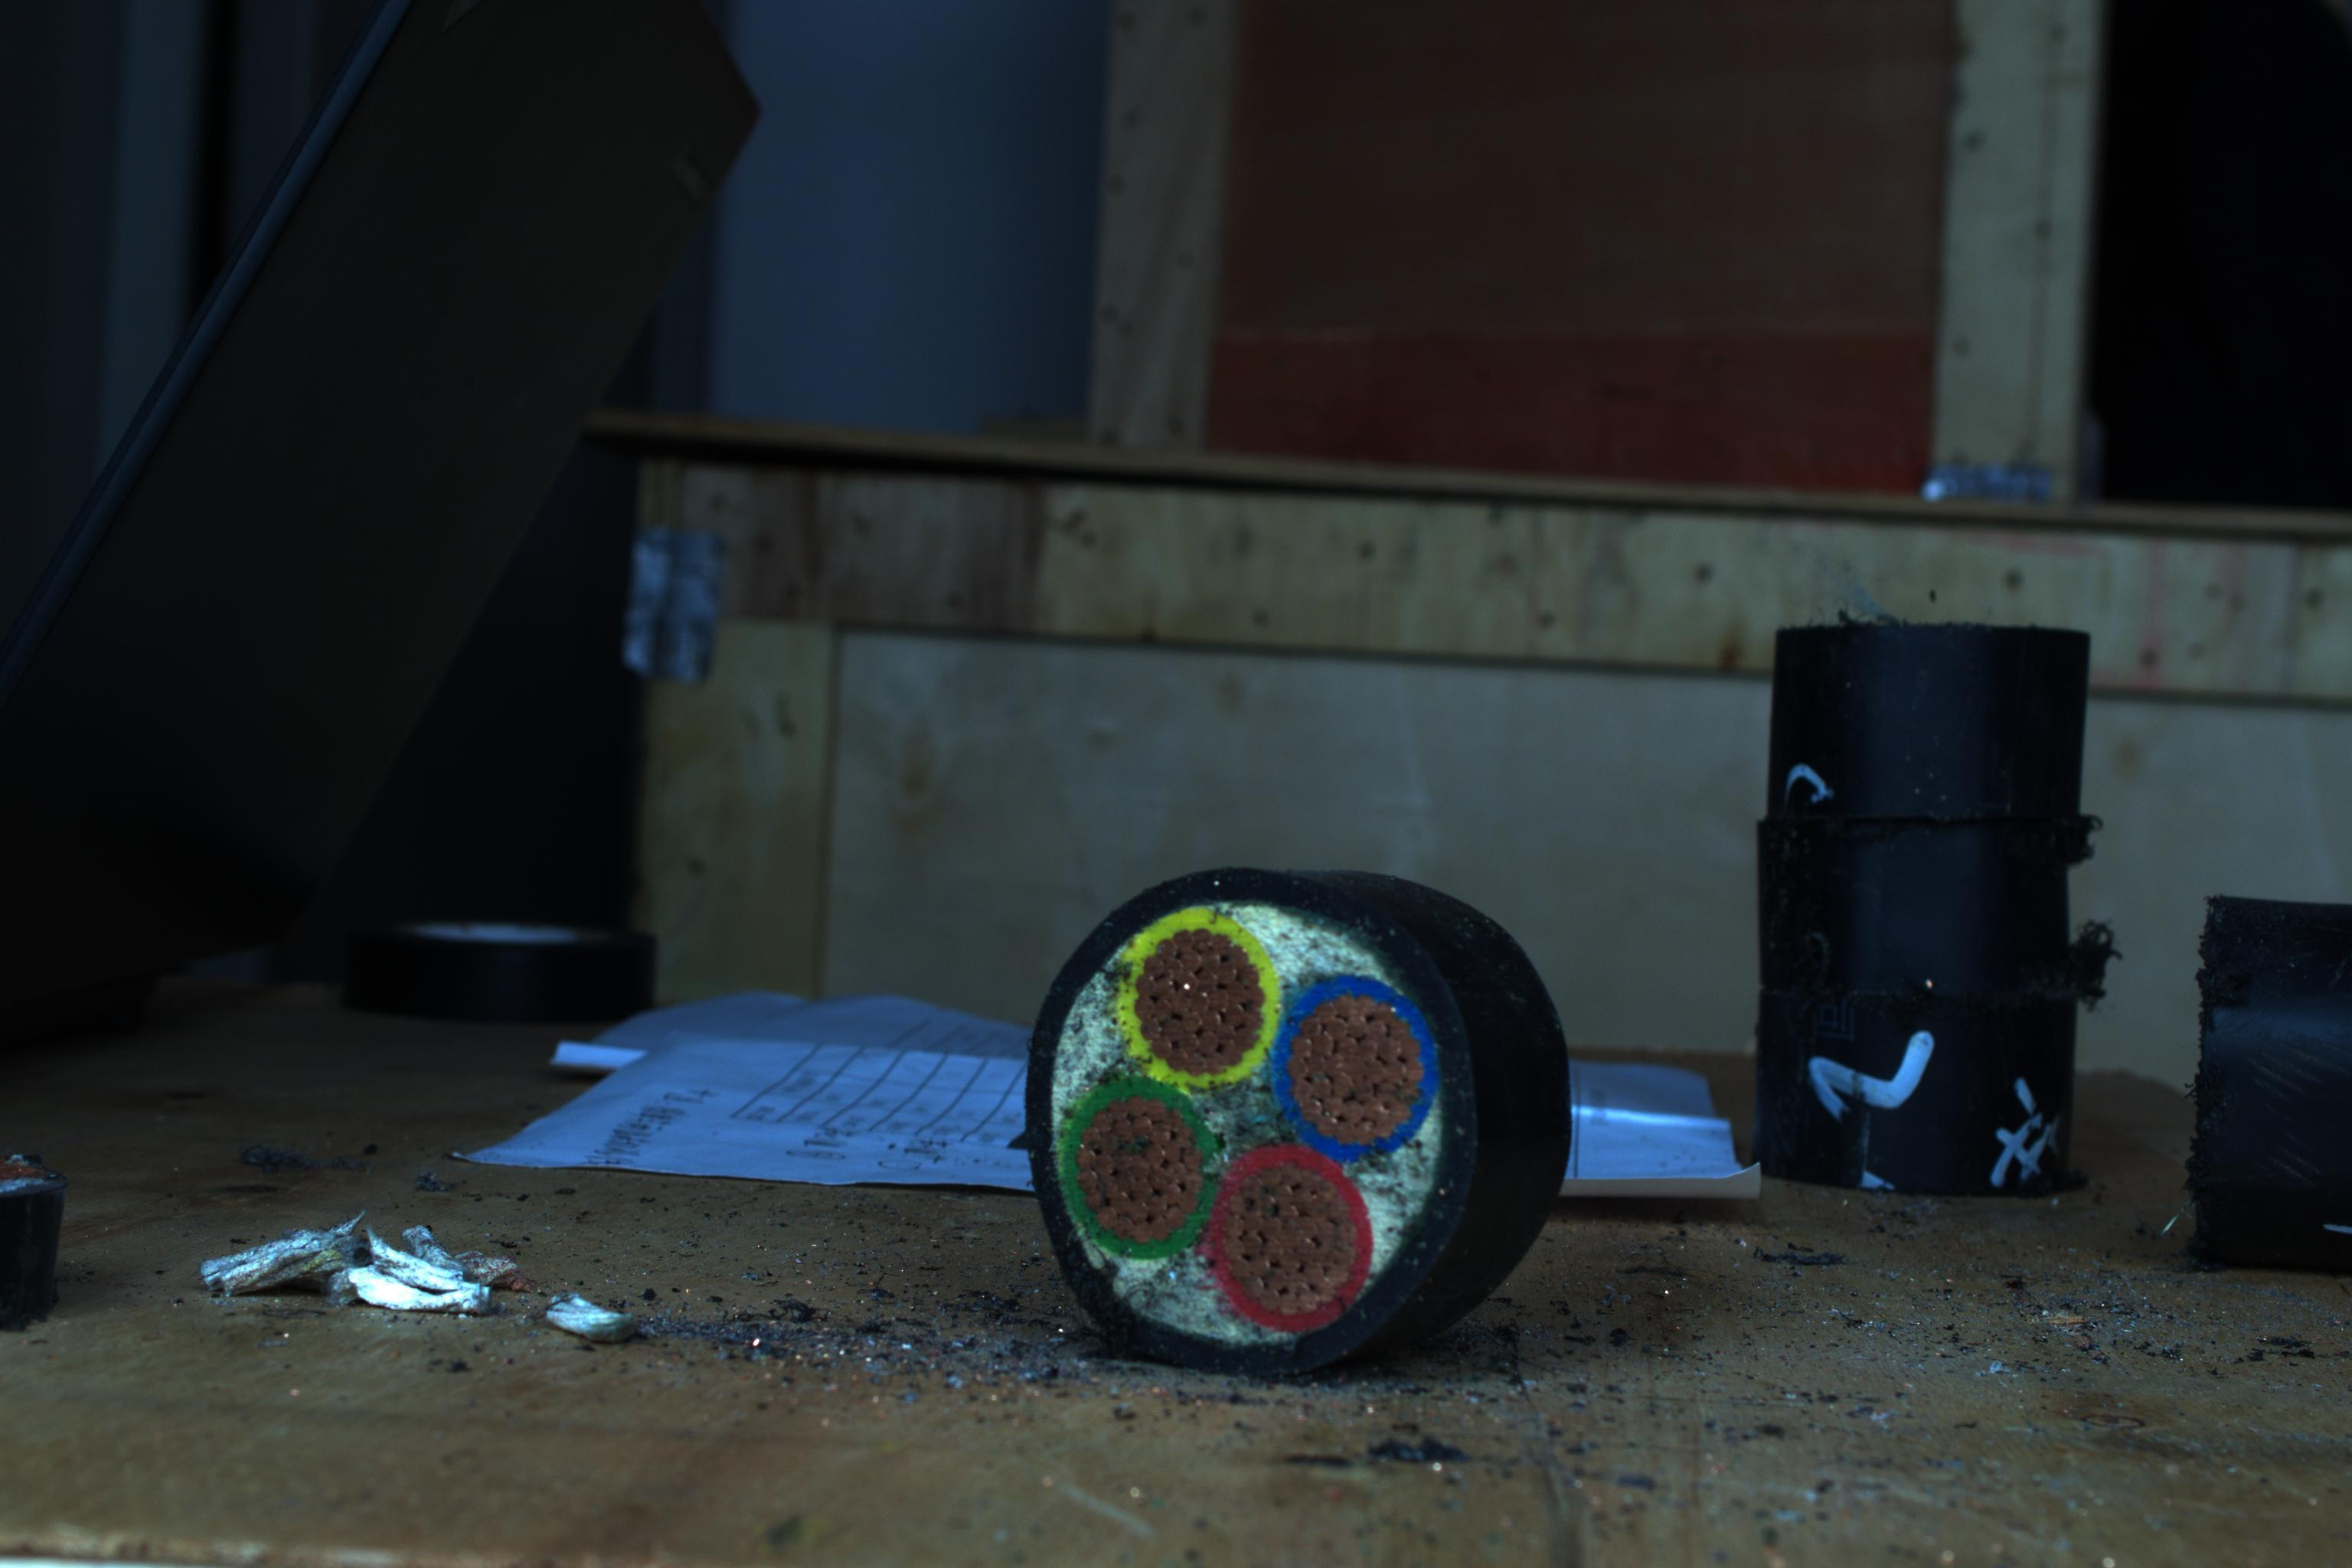YJV_0.6_1kV_4x185: (1022, 894, 1496, 1340)
